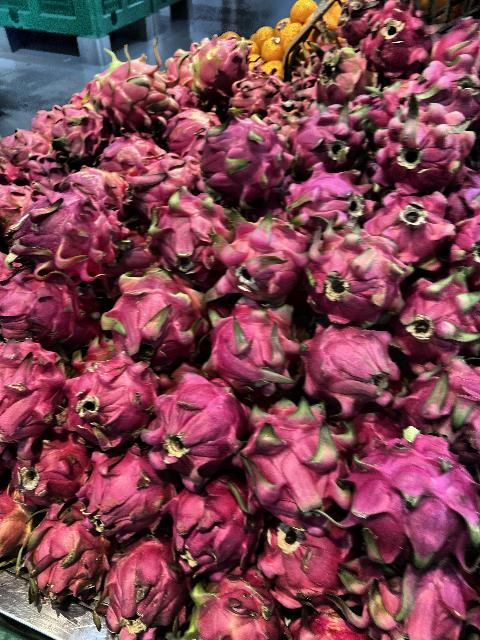buah-naga-belum-matang: (23, 496, 105, 610), (194, 576, 288, 640), (313, 38, 383, 106), (184, 34, 252, 96), (0, 476, 34, 570), (63, 164, 134, 206)
buah-naga-matang: (350, 427, 480, 573), (234, 399, 358, 525), (74, 443, 204, 545), (342, 546, 476, 640), (66, 342, 184, 442), (200, 294, 304, 398), (300, 311, 406, 413), (164, 474, 266, 580), (396, 348, 480, 464), (98, 270, 204, 360), (251, 511, 353, 603), (94, 538, 184, 640), (396, 266, 480, 370), (154, 375, 236, 481), (366, 176, 458, 268), (188, 111, 288, 195), (369, 111, 471, 191), (307, 227, 395, 319), (0, 262, 86, 356), (14, 192, 120, 266), (213, 214, 301, 300), (0, 334, 70, 442), (279, 110, 383, 180), (89, 60, 179, 130), (149, 196, 229, 268), (356, 3, 436, 75), (11, 429, 95, 496), (283, 172, 368, 230), (124, 159, 200, 209)
